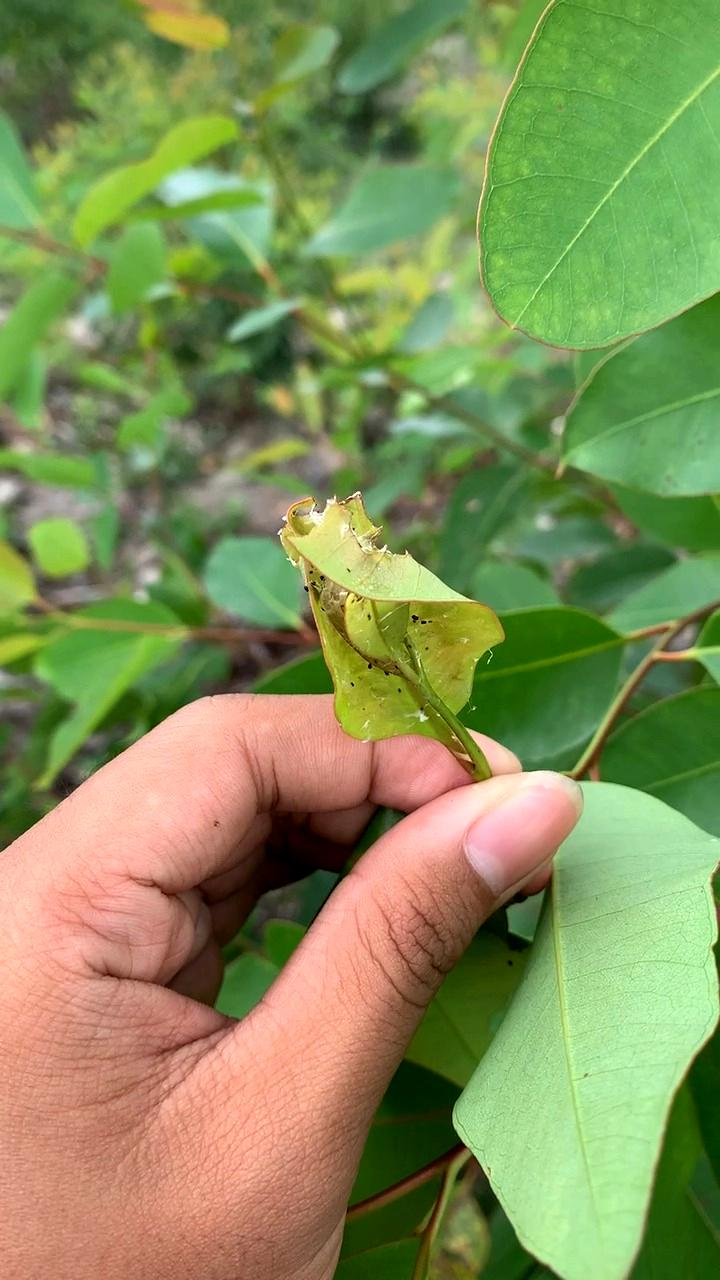Leaf Roller - Leaf: (273, 488, 509, 759)
